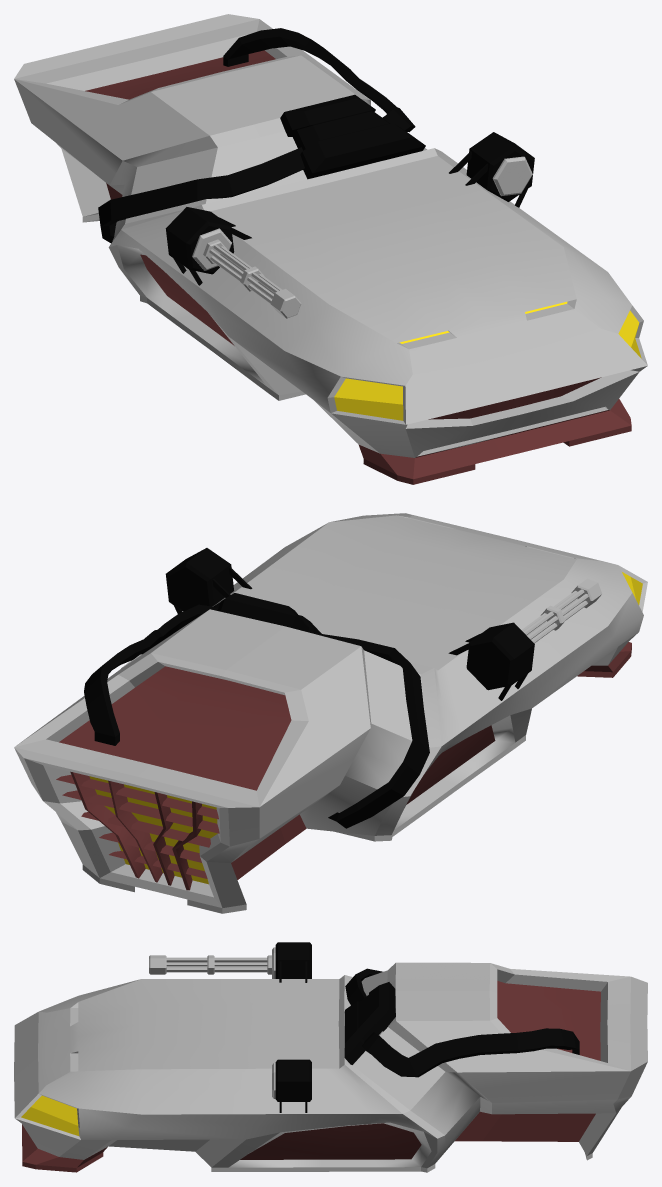
The model's file is gunGat.fbx.
3 views of the same model, one above another, from view 1: azimuth 30°, elevation 25°; view 2: azimuth 150°, elevation 25°; view 3: azimuth 270°, elevation 25° (orthographic). The views are drawn at different scales.
Visible parts, largest first — view 1: MainCar_Body, r_gattlingGun1; view 2: MainCar_Body, r_gattlingGun1; view 3: MainCar_Body, r_gattlingGun1.
Boxes of the visible parts, x1=… form: MainCar_Body: x1=14, y1=14, x2=647, y2=484; r_gattlingGun1: x1=203, y1=239, x2=301, y2=318; MainCar_Body: x1=14, y1=513, x2=647, y2=913; r_gattlingGun1: x1=521, y1=578, x2=602, y2=643; MainCar_Body: x1=14, y1=942, x2=647, y2=1172; r_gattlingGun1: x1=149, y1=955, x2=271, y2=974.
Bounding box in the file's own units: 0.0399 × 0.021 × 0.0796.
